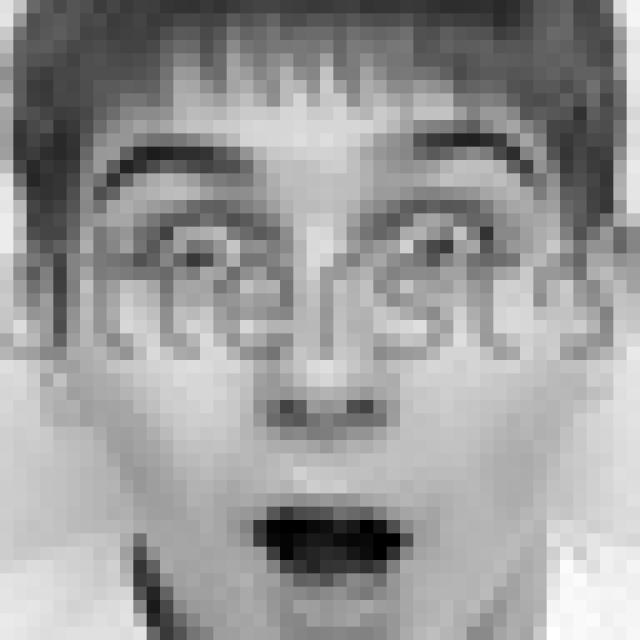surprise: (78, 124, 556, 622)
